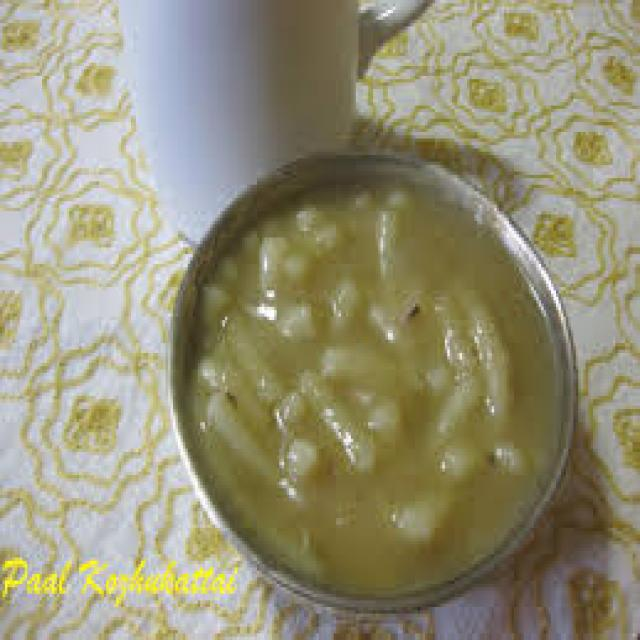paal kolukattai: (191, 178, 537, 593)
